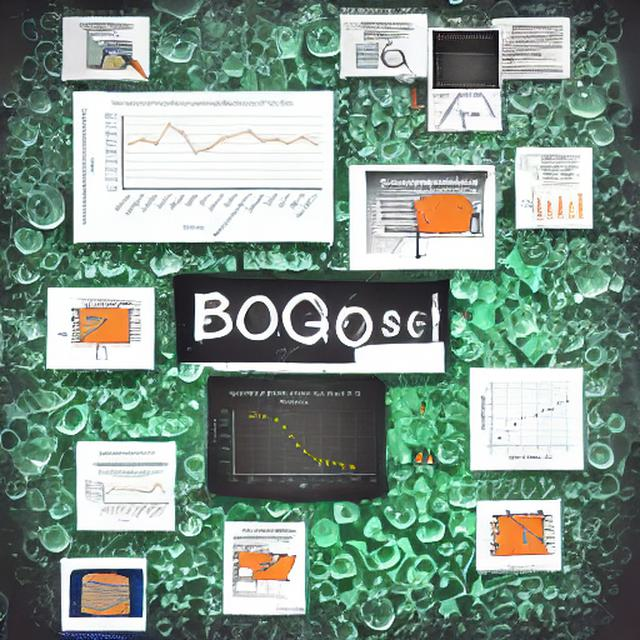Graph: (75, 94, 332, 240), (209, 386, 382, 492), (474, 379, 580, 463), (82, 468, 171, 524), (520, 183, 586, 225), (435, 52, 498, 89)
